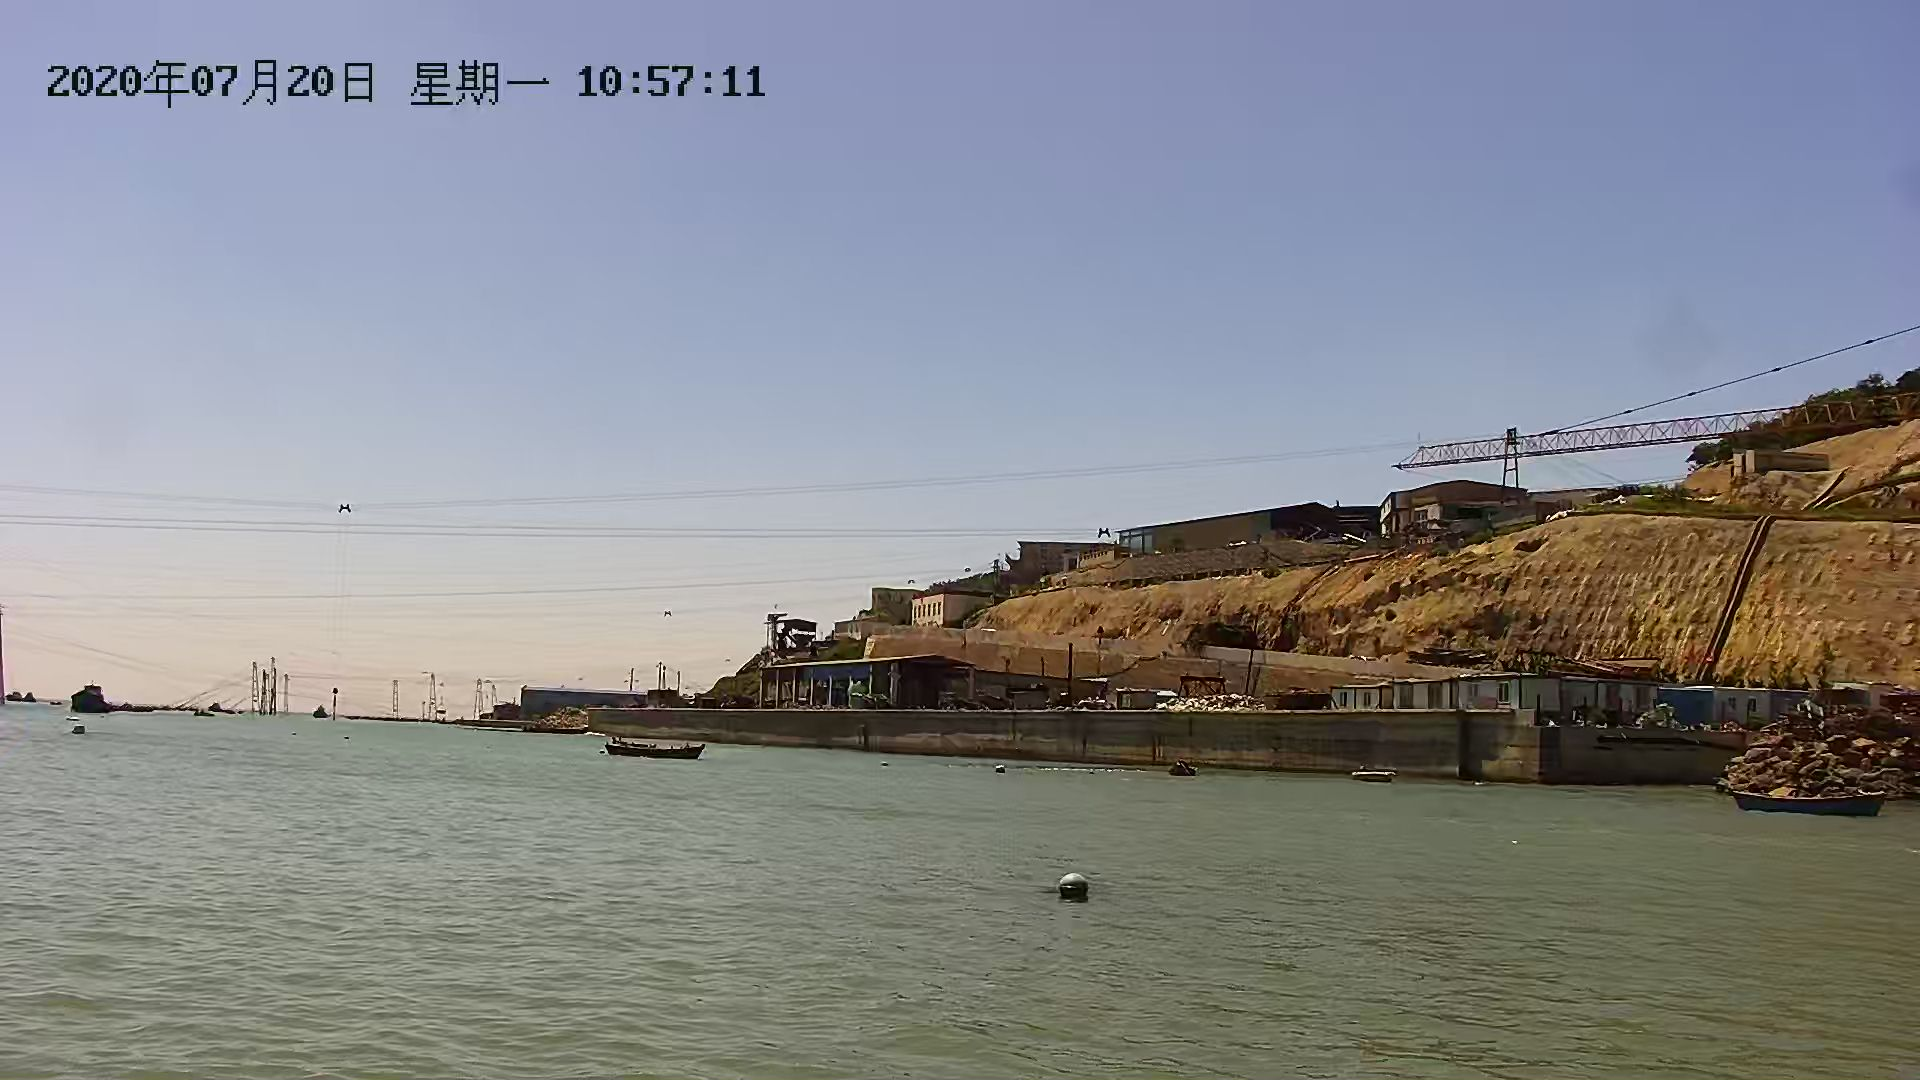ball: (1054, 869, 1095, 902)
boat: (1733, 787, 1890, 818), (604, 738, 704, 764), (1348, 764, 1400, 787)
